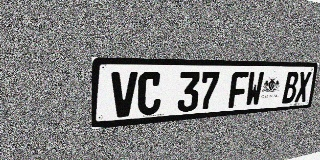3: (177, 72, 200, 112)
7: (197, 72, 220, 111)
B: (282, 71, 299, 104)
C: (137, 72, 162, 116)
F: (228, 71, 249, 108)
V: (110, 72, 138, 118)
W: (245, 71, 264, 107)
X: (294, 71, 312, 103)
